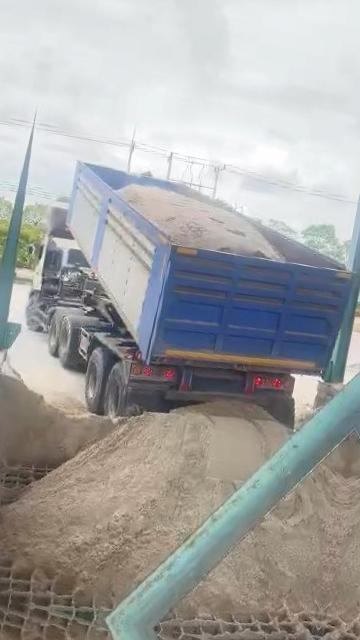sand: (0, 402, 287, 603), (178, 466, 346, 615), (118, 184, 283, 260), (0, 365, 116, 467), (297, 383, 343, 428), (325, 431, 355, 477)
